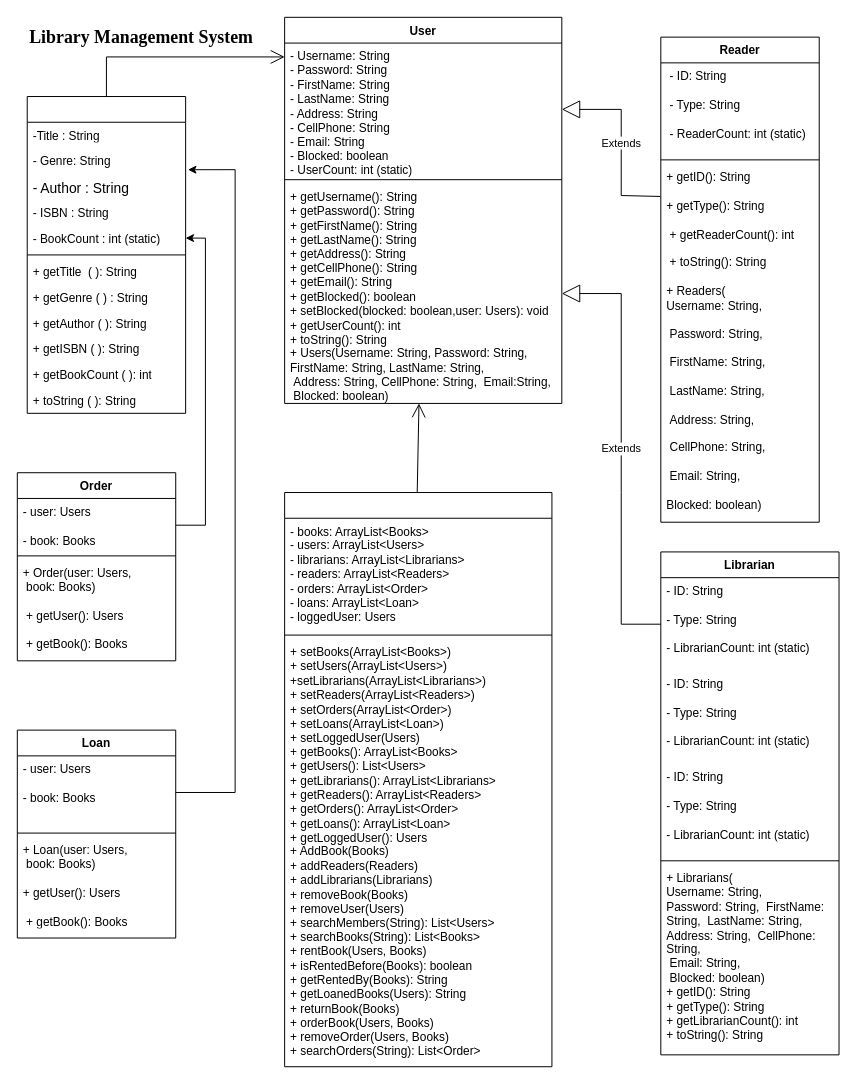
The diagram is 856 pixels wide and 1087 high, and some of its shapes have lost their labels. Each missing label, with the box of its shape:
Books: (26, 96, 186, 413)
Library: (284, 492, 552, 1067)
